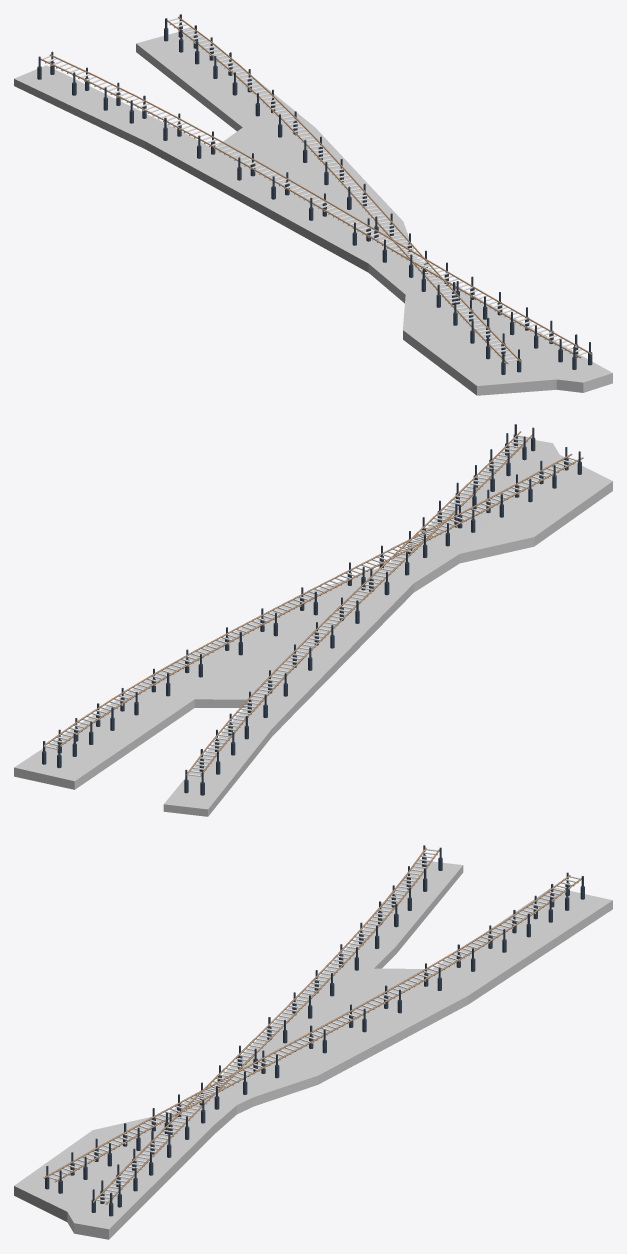
File: RC_Playground_04.fbx
3 views of the same model, one above another, from view 1: azimuth 30°, elevation 25°; view 2: azimuth 150°, elevation 25°; view 3: azimuth 330°, elevation 25° (orthographic).
Visible parts, largest first — view 1: Platform.008, Columns.008, RailStep.010, RailStep.011, Path.012, Path.011; view 2: Platform.008, Columns.008, RailStep.011, RailStep.010, Path.011, Path.012; view 3: Platform.008, Columns.008, RailStep.011, RailStep.010, Path.011, Path.012.
Part boxes in pixels (x1=…): Platform.008: x1=14, y1=28, x2=612, y2=395; Columns.008: x1=37, y1=14, x2=592, y2=374; RailStep.010: x1=168, y1=17, x2=517, y2=362; RailStep.011: x1=40, y1=55, x2=587, y2=356; Path.012: x1=40, y1=54, x2=592, y2=358; Path.011: x1=167, y1=16, x2=520, y2=364; Platform.008: x1=14, y1=437, x2=612, y2=816; Columns.008: x1=42, y1=424, x2=581, y2=795; RailStep.011: x1=186, y1=435, x2=531, y2=776; RailStep.010: x1=43, y1=457, x2=578, y2=749; Path.011: x1=44, y1=453, x2=583, y2=748; Path.012: x1=187, y1=431, x2=532, y2=775; Platform.008: x1=14, y1=860, x2=612, y2=1239; Columns.008: x1=45, y1=845, x2=584, y2=1216; RailStep.011: x1=96, y1=848, x2=439, y2=1202; RailStep.010: x1=47, y1=876, x2=580, y2=1181; Path.011: x1=43, y1=875, x2=581, y2=1182; Path.012: x1=93, y1=847, x2=439, y2=1204.
Size of the model in its own units: 3308 by 586 by 14237.
